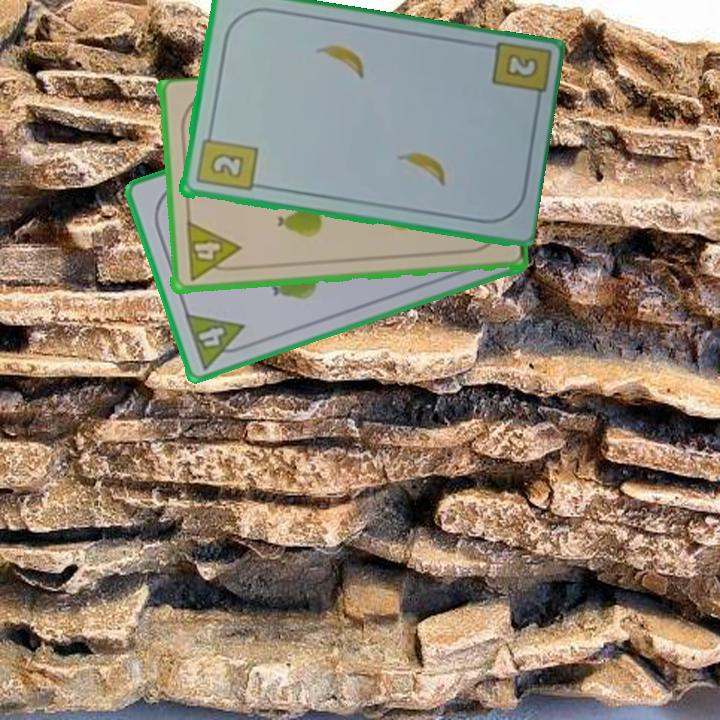2b: (192, 126, 259, 195), (501, 50, 541, 82)
4p: (181, 309, 253, 372), (182, 219, 243, 285)
